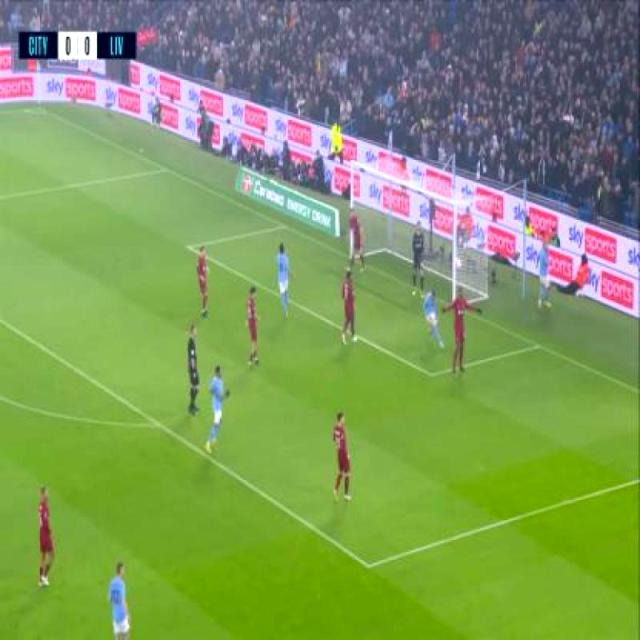bigarea_bottom_inner: (361, 555, 376, 575)
bigarea_top_outter: (158, 158, 174, 182)
bottom_arc_area_intersection: (151, 411, 166, 437)
corner: (34, 104, 43, 118)
smallarea_bottom_inner: (423, 365, 440, 385)
smallarea_bottom_outter: (532, 336, 544, 354)
smallarea_top_inner: (183, 240, 194, 254)
smallarea_top_outter: (277, 218, 291, 234)
